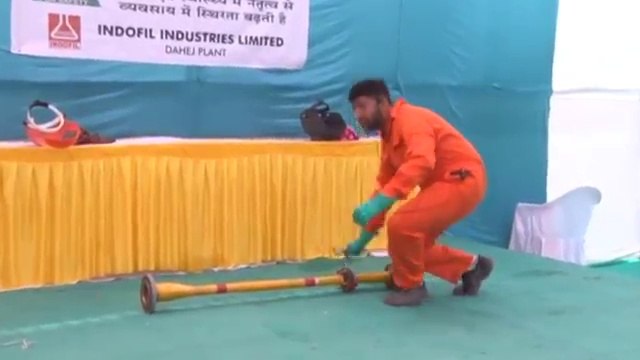helmet_off: (348, 78, 392, 134)
person: (338, 74, 496, 304)
